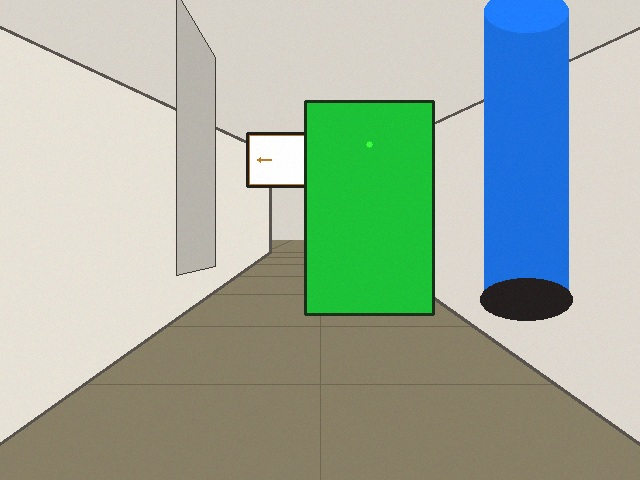charging_station: (305, 101, 433, 314)
directional_sign: (247, 133, 353, 186)
person: (484, 11, 568, 299)
